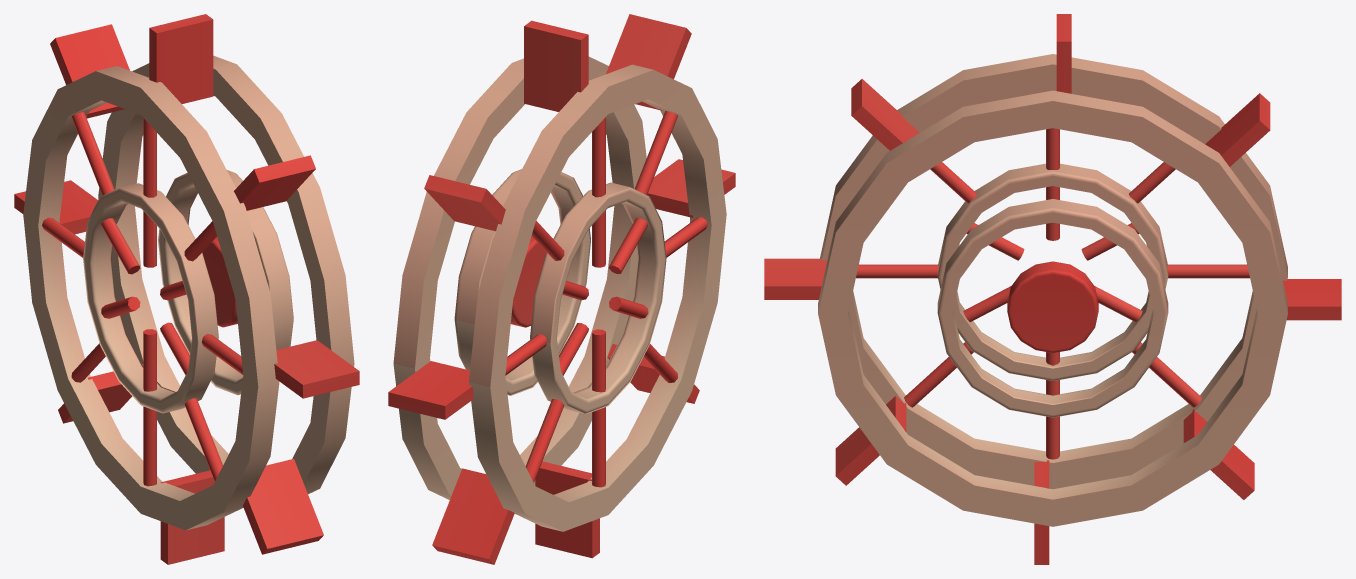
File: SM_Watermill_Wheel.fbx
The picture shows the model from 3 angles, left to right: view 1: azimuth 30°, elevation 25°; view 2: azimuth 150°, elevation 25°; view 3: azimuth 270°, elevation 25°; orthographic projection.
Parts seen in each view (by area): view 1: SM_Watermill_Wheel; view 2: SM_Watermill_Wheel; view 3: SM_Watermill_Wheel.
Part boxes in pixels (bbox=[...]): SM_Watermill_Wheel: bbox=[14, 14, 359, 564]; SM_Watermill_Wheel: bbox=[388, 14, 735, 564]; SM_Watermill_Wheel: bbox=[764, 14, 1341, 564].
Size of the model in its own units: 90.63 by 471 by 471.
